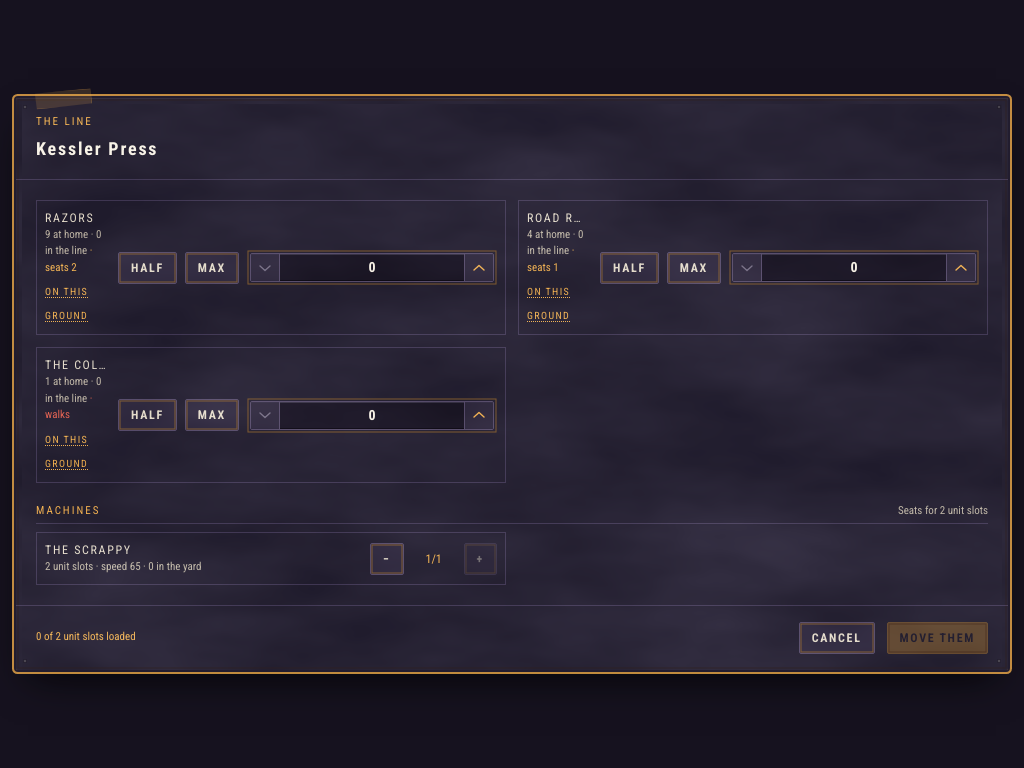
Test: what the machines will seat › stops Max at the seats once a machine is loaded
Click the button with test id "deploy-max-razors" at point(212, 268), box [185,252,239,284]
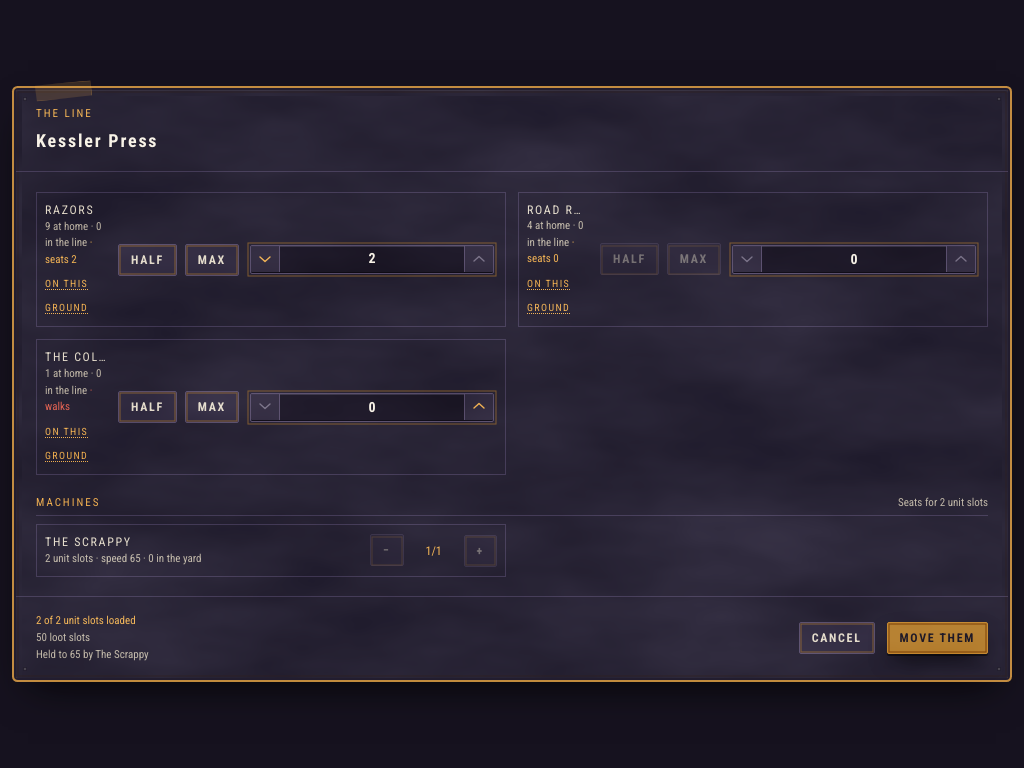
expect the text with test id "seated-razors" shows "seats 2": met, box [45,236,92,265]
expect the number field with test id "line-razors" holds "2": met, box [279,245,465,272]
expect the text with test id "deploy-seats" reads "2 of 2 unit slots loaded": met, box [36,614,136,627]
